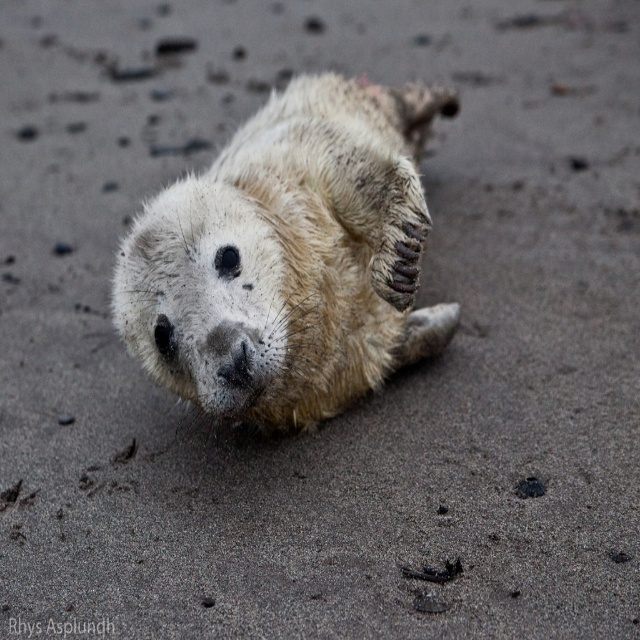Harbor seal: (111, 70, 461, 461)
